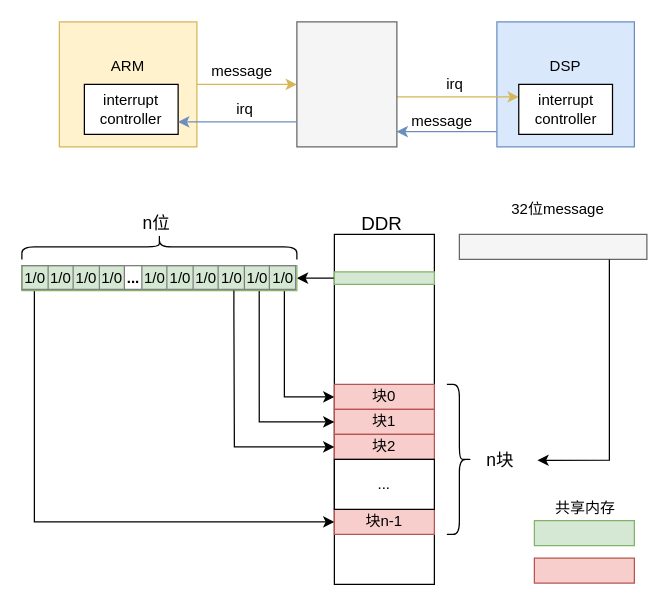
Some shapes in this 669 by 606 pixel diagram are drawn without their labels. Each missing label, with the centre of its shape:
MAILBOX: the point at 346,84
其他信息 块索引: the point at 552,246
